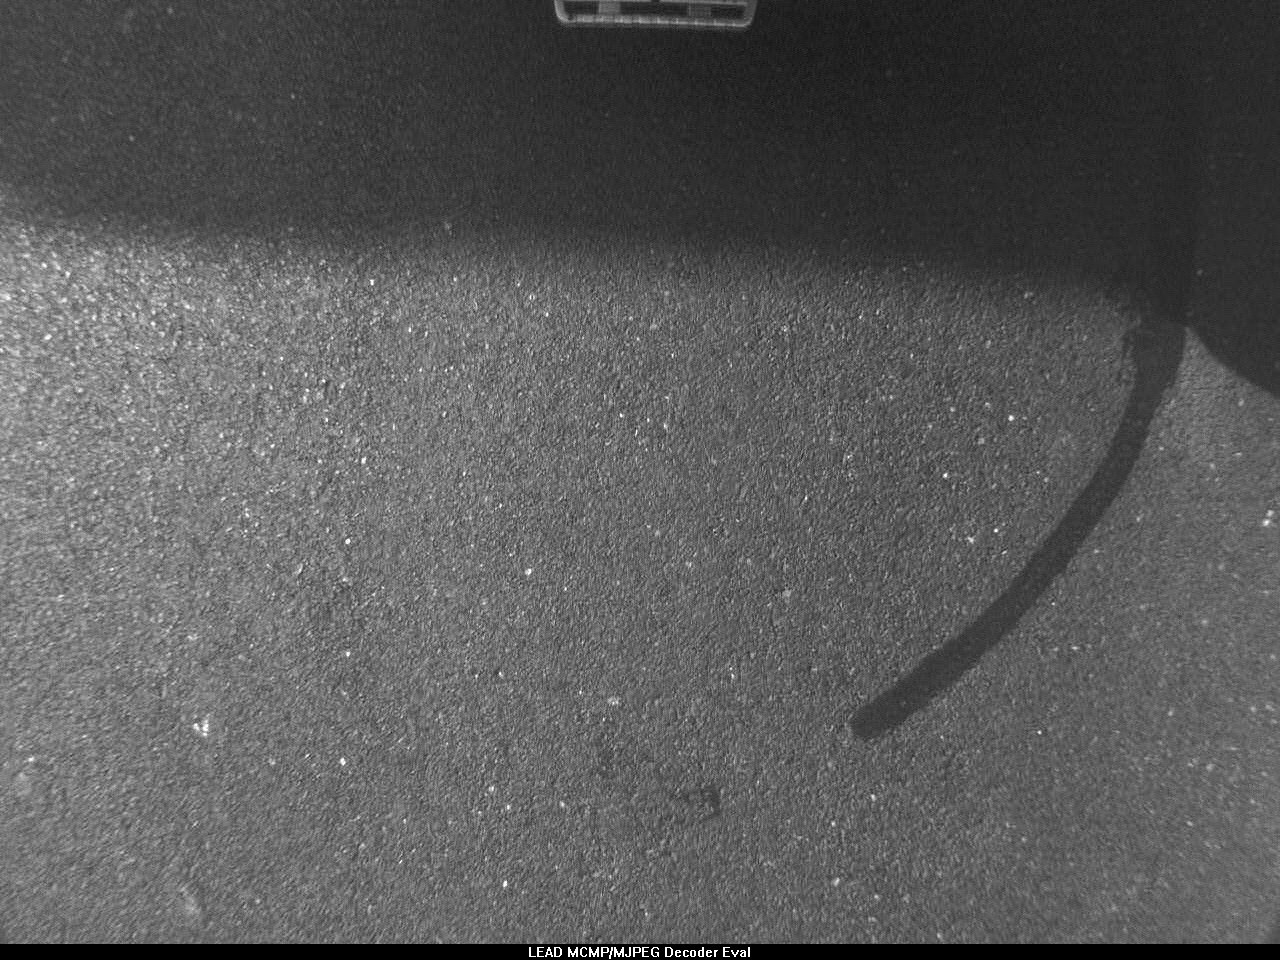sealed: (833, 302, 1195, 742)
